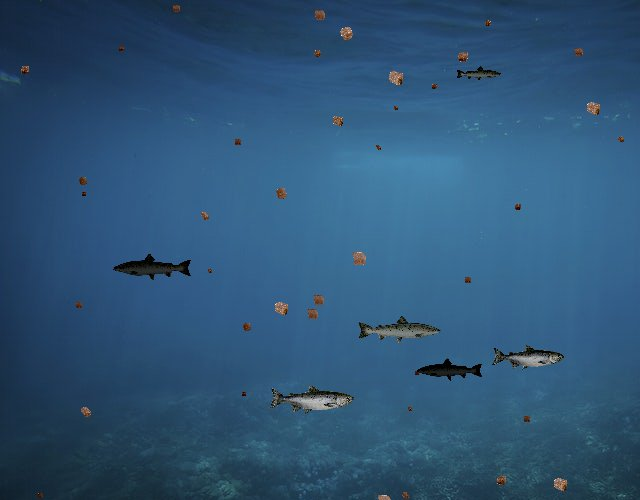Fish: (356, 314, 442, 345), (268, 384, 354, 415), (112, 253, 193, 282), (491, 344, 564, 371), (416, 357, 484, 382), (455, 65, 502, 82)
Pellet: (75, 401, 96, 423), (569, 43, 588, 62), (510, 200, 524, 214), (428, 80, 441, 93), (115, 43, 127, 55), (204, 266, 214, 276)
